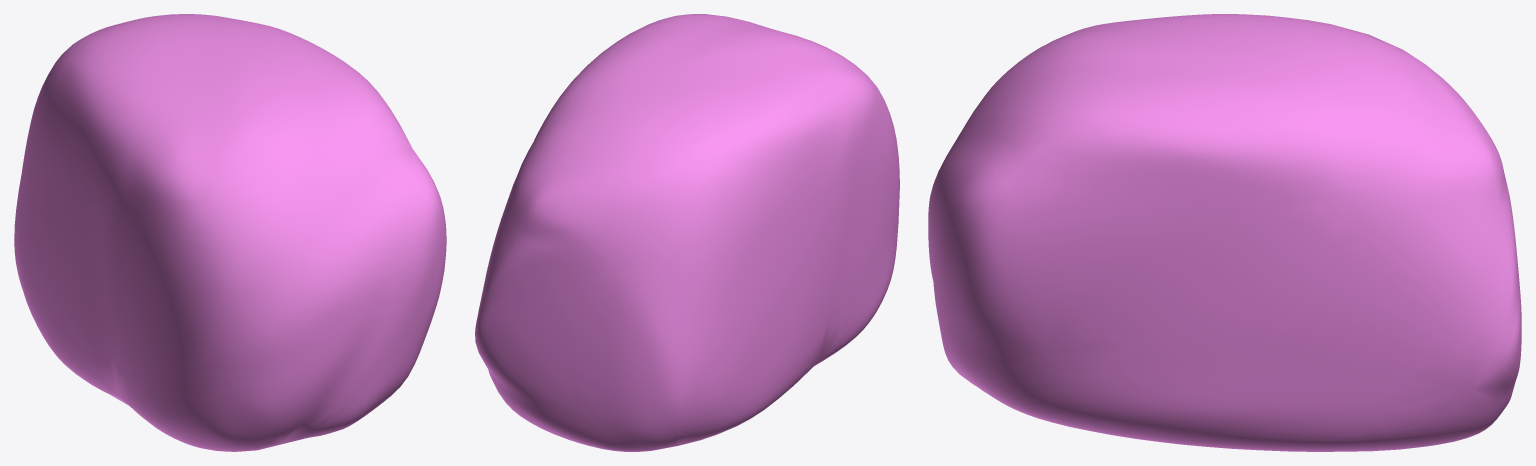
3 renders of one model, left to right at view 1: azimuth 30°, elevation 25°; view 2: azimuth 150°, elevation 25°; view 3: azimuth 270°, elevation 25°, orthographic. The views are drawn at different scales.
Visible parts, largest first — view 1: AG_F; view 2: AG_F; view 3: AG_F.
Part boxes in pixels (x1=…): AG_F: x1=14, y1=14, x2=446, y2=451; AG_F: x1=475, y1=14, x2=899, y2=451; AG_F: x1=928, y1=14, x2=1521, y2=451.
Size of the model in its own units: 9.64 by 11.46 by 16.72.
